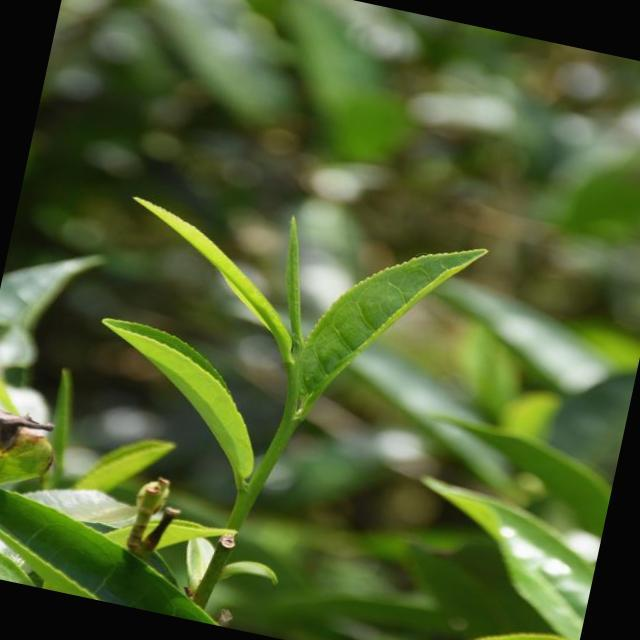Stem: (282, 418, 296, 432)
